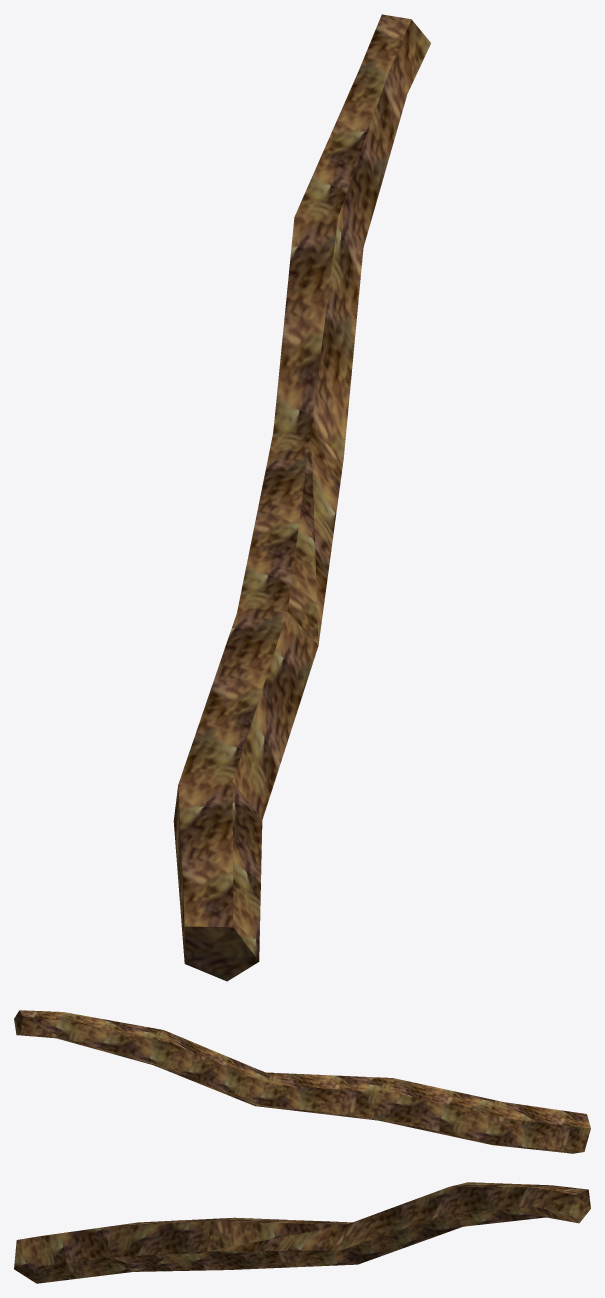
The model's file is Forest_1_FallenTree.gltf.
3 views of the same model, one above another, from view 1: azimuth 30°, elevation 25°; view 2: azimuth 150°, elevation 25°; view 3: azimuth 270°, elevation 25° (orthographic). The views are drawn at different scales.
Parts seen in each view (by area): view 1: Forest_1_FallenTree; view 2: Forest_1_FallenTree; view 3: Forest_1_FallenTree.
Boxes of the visible parts, x1,y1,x2,y2 form: Forest_1_FallenTree: (173,14,430,981); Forest_1_FallenTree: (14,1010,590,1153); Forest_1_FallenTree: (14,1182,590,1283).
Bounding box in the file's own units: 17.46 × 11.15 × 21.36.
1 material, 1 textured.
